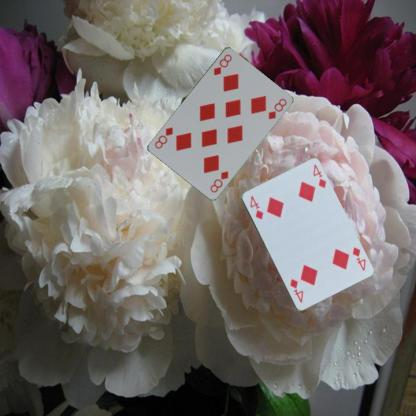4d: (247, 193, 265, 221), (349, 245, 367, 272)
8d: (207, 168, 230, 194), (211, 52, 233, 76)
